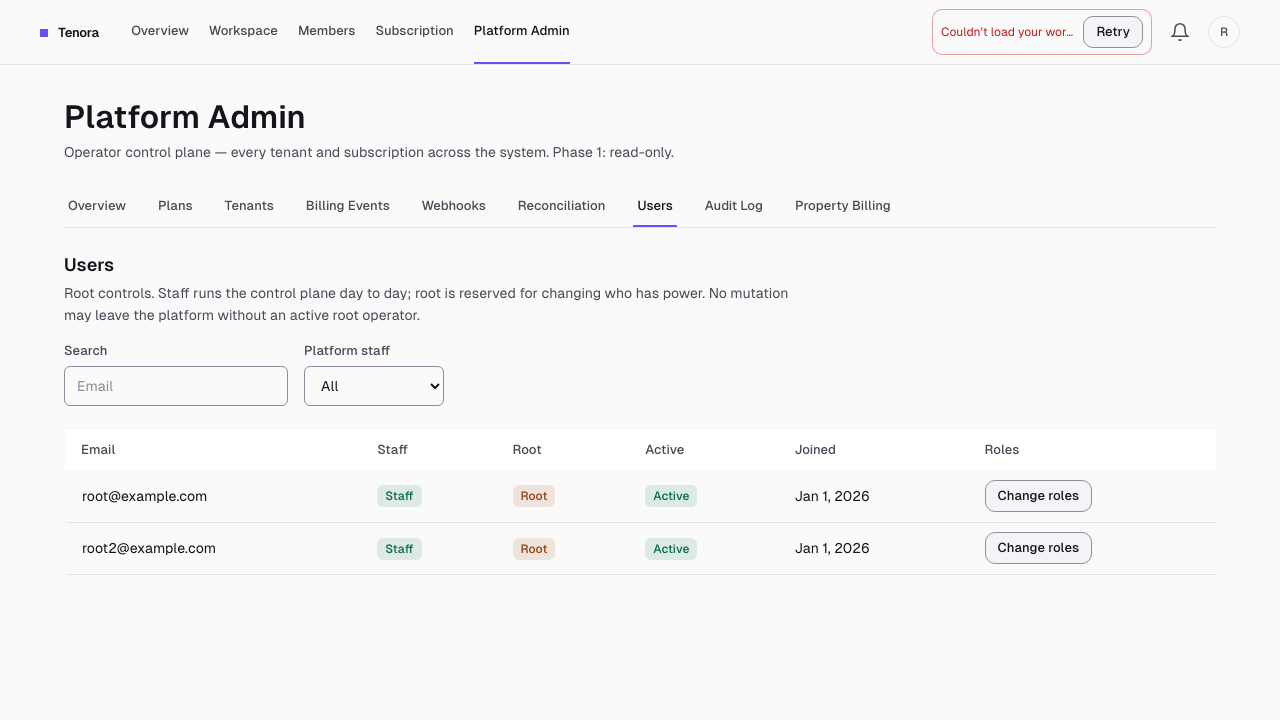
/admin/users — role controls (Root tier) › renders a 403 from the server as a refusal, not a success
The image size is (1280, 720).
Click the button "Change roles" in the row of "root2@example.com".
click(1038, 548)  # box [984, 532, 1092, 564]
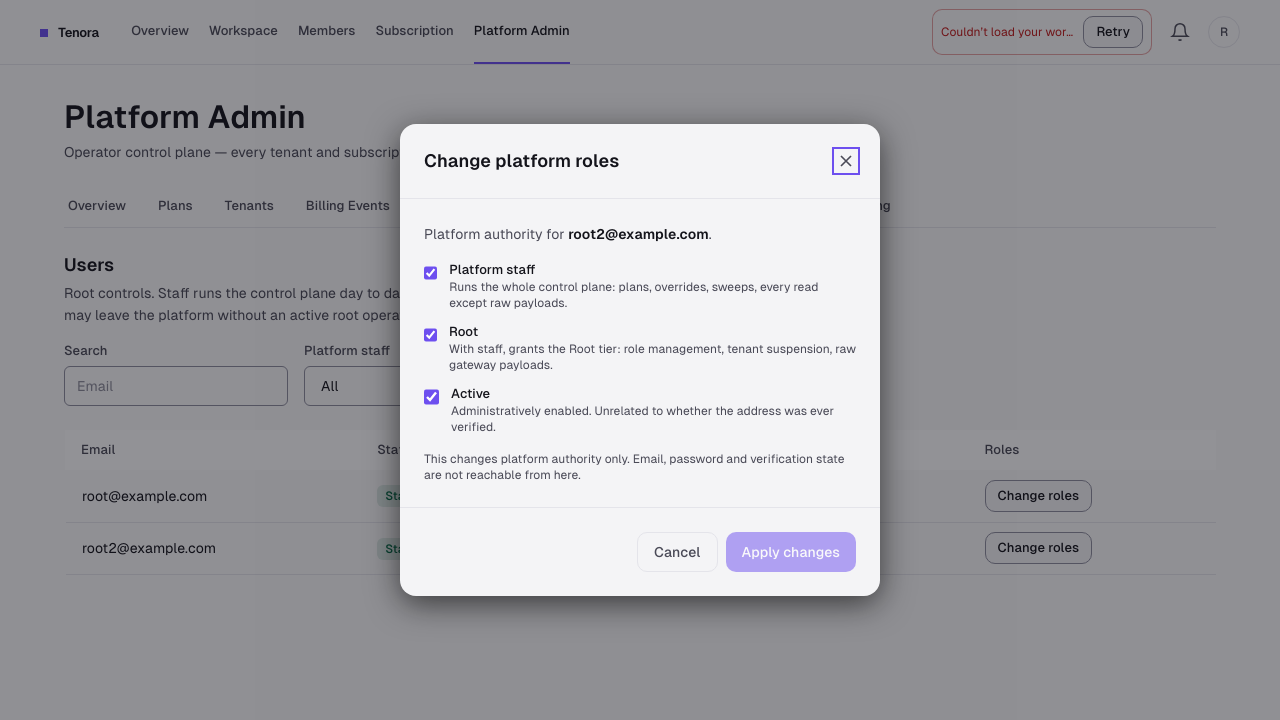
Now the dialog is shown, box [400, 124, 880, 596]
Click the checkbox labelled "Root".
click(430, 335)  # box [424, 327, 437, 343]
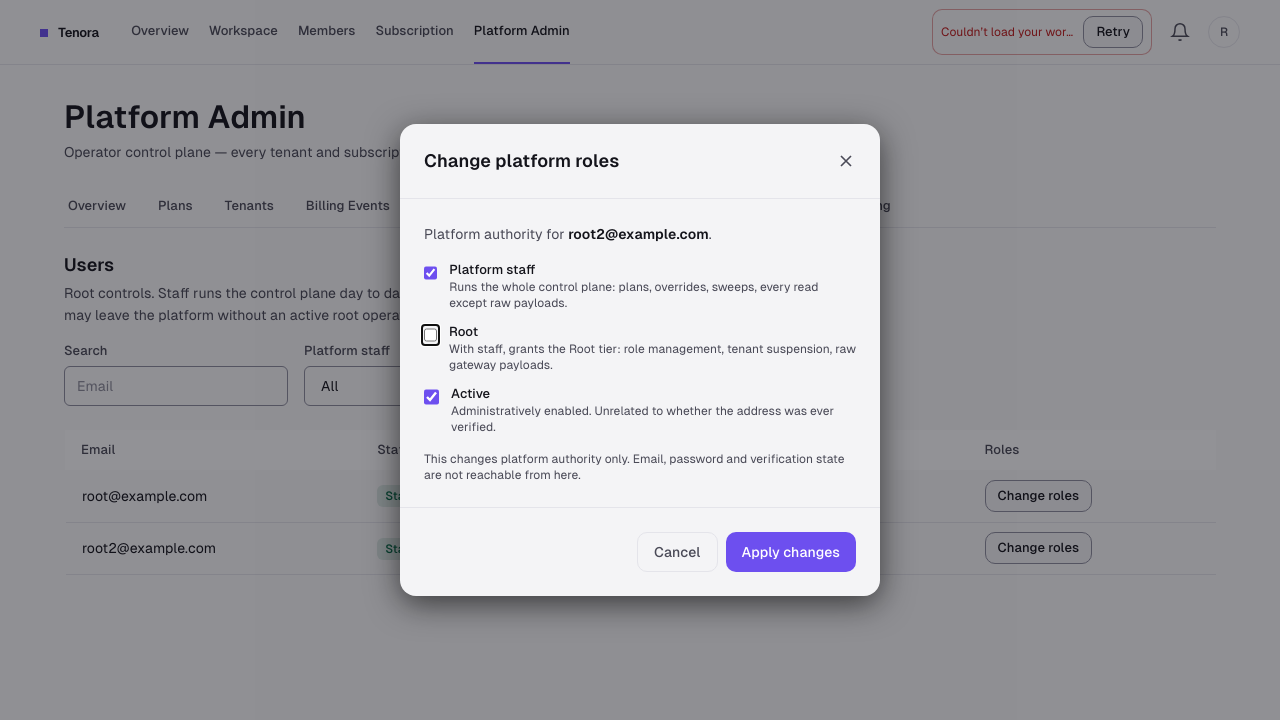
Click the button "Apply changes".
click(791, 552)  # box [726, 532, 856, 572]
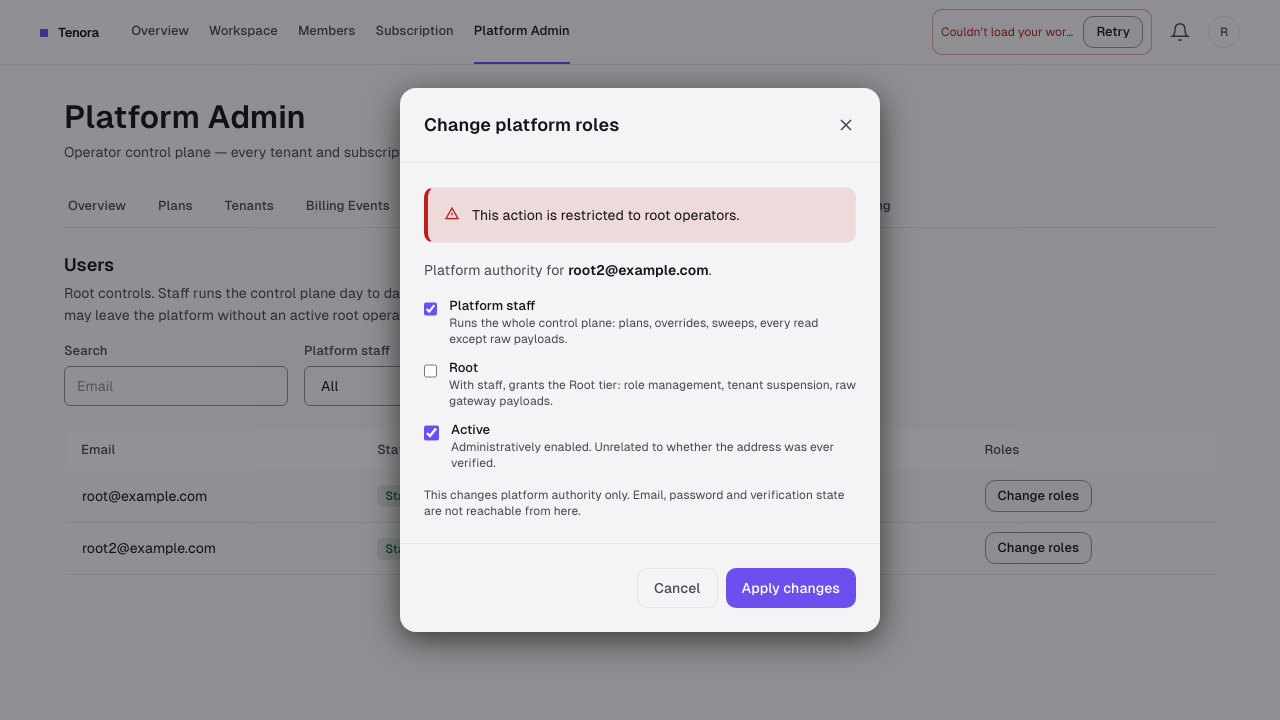
Now the text "This action is restricted to root operators." is shown, box [472, 207, 739, 223]
